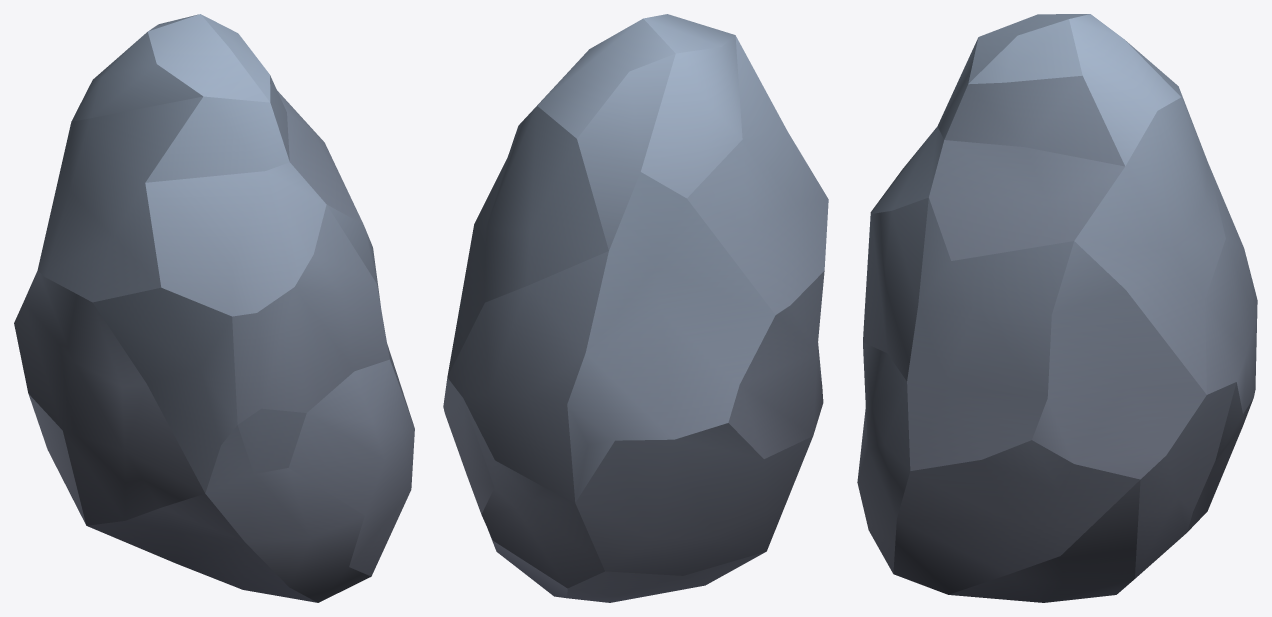
Rendered from SM_Rock_06.fbx.
3 views of the same model, side by side, from view 1: azimuth 30°, elevation 25°; view 2: azimuth 150°, elevation 25°; view 3: azimuth 270°, elevation 25° (orthographic). The views are drawn at different scales.
Parts seen in each view (by area): view 1: Rock.005; view 2: Rock.005; view 3: Rock.005.
Part boxes in pixels (x1,y1,x2,y2): Rock.005: (14, 14, 414, 602); Rock.005: (443, 14, 828, 602); Rock.005: (857, 14, 1257, 602).
Size of the model in its own units: 362 by 608 by 398.
